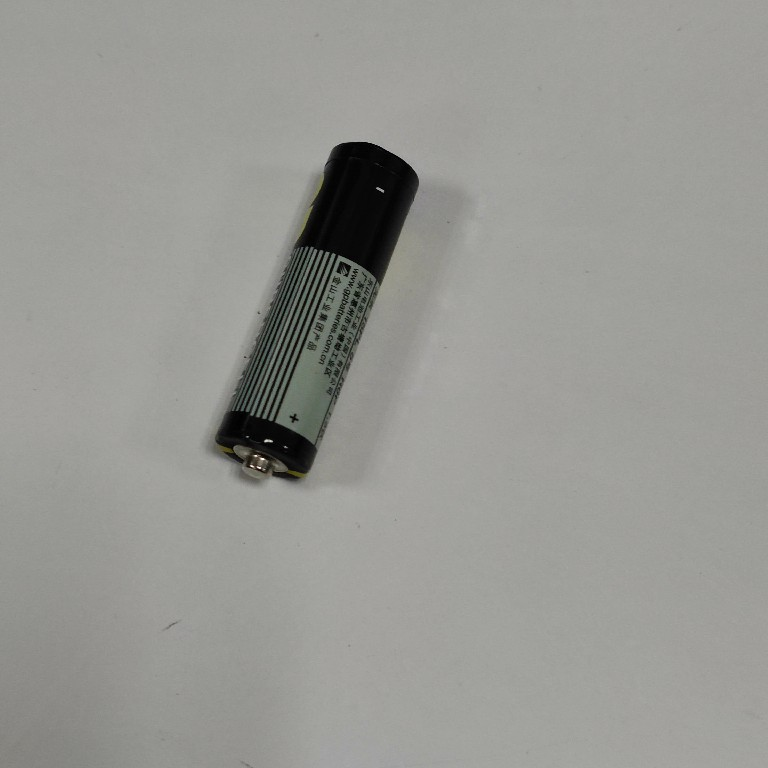charge: (212, 137, 422, 484)
